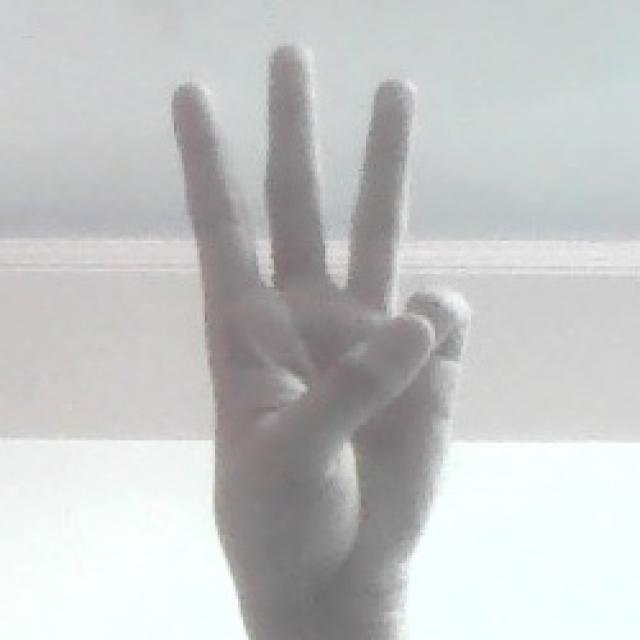Numeric-6: (154, 27, 473, 619)
